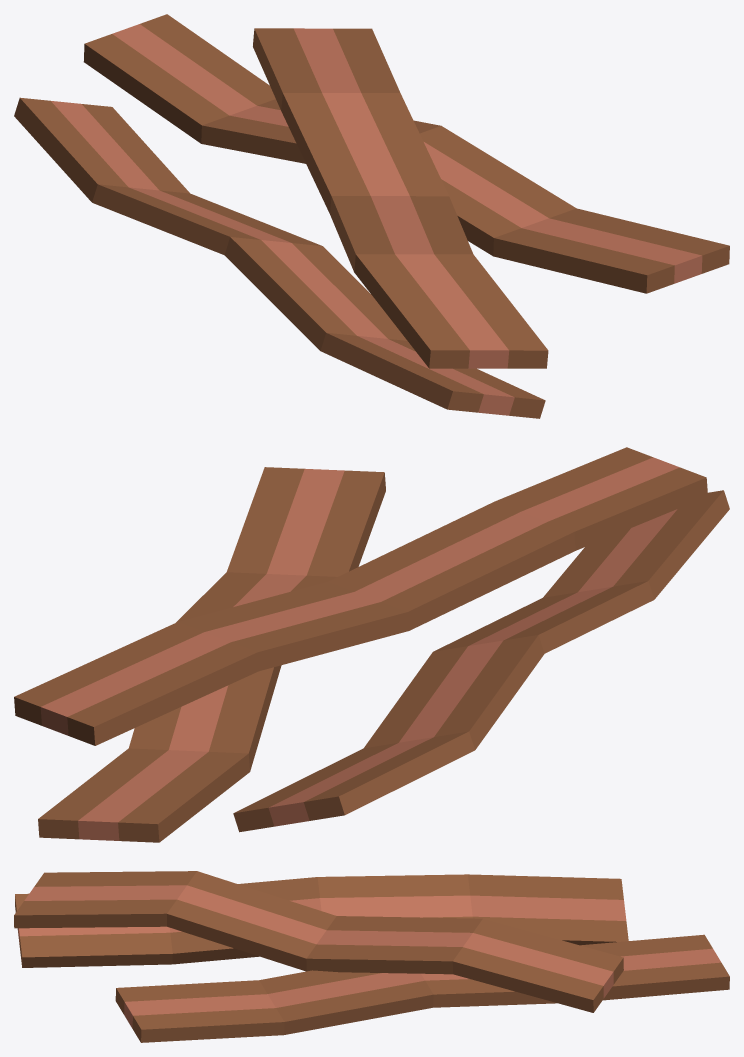
The model's file is Bacon.fbx.
3 renders of one model, top to bottom at view 1: azimuth 30°, elevation 25°; view 2: azimuth 150°, elevation 25°; view 3: azimuth 270°, elevation 25°, orthographic. The views are drawn at different scales.
Parts seen in each view (by area): view 1: BaconPiece.002, BaconPiece.001, BaconPiece; view 2: BaconPiece.002, BaconPiece.001, BaconPiece; view 3: BaconPiece.002, BaconPiece.001, BaconPiece.
Part boxes in pixels (x1,y1,x2,y2): BaconPiece.002: (253, 28, 548, 368); BaconPiece.001: (83, 14, 729, 293); BaconPiece: (14, 97, 545, 418); BaconPiece.002: (14, 447, 707, 745); BaconPiece.001: (38, 467, 385, 842); BaconPiece: (233, 490, 729, 832); BaconPiece.002: (14, 871, 623, 1012); BaconPiece.001: (115, 934, 729, 1042); BaconPiece: (15, 874, 628, 967).
Size of the model in its own units: 48.21 by 11.4 by 94.41.
